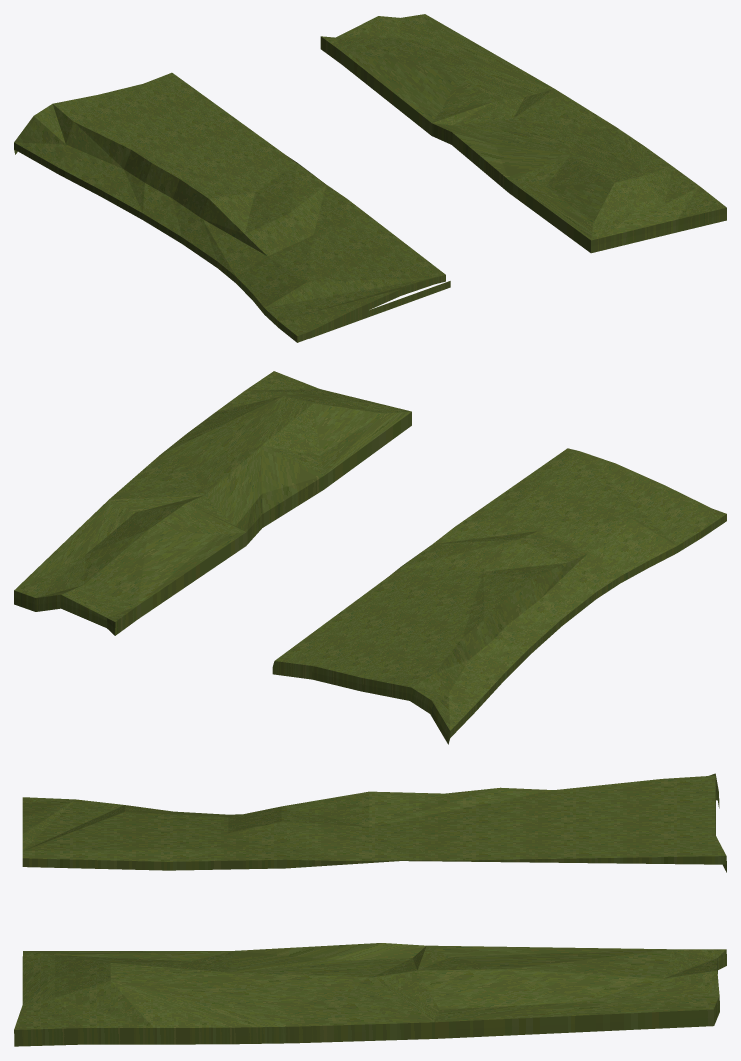
Rendered from lodsfseland02.obj.
3 views of the same model, one above another, from view 1: azimuth 30°, elevation 25°; view 2: azimuth 150°, elevation 25°; view 3: azimuth 270°, elevation 25° (orthographic). The views are drawn at different scales.
Parts seen in each view (by area): view 1: LODsfseland02; view 2: LODsfseland02; view 3: LODsfseland02.
Boxes of the visible parts, x1,y1,x2,y2 form: LODsfseland02: (14, 14, 726, 342); LODsfseland02: (14, 371, 726, 744); LODsfseland02: (14, 773, 726, 1046).
Size of the model in its own units: 149 by 18.57 by 163.
Materials: 1 (1 with a texture image).
